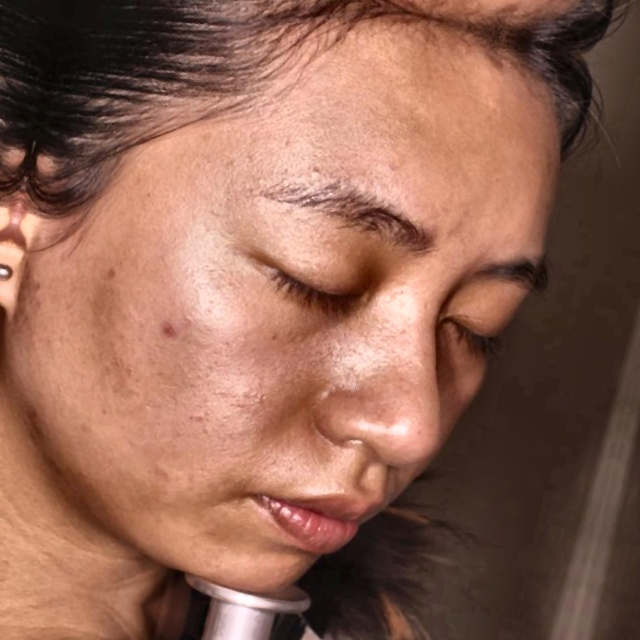comedone: (153, 317, 181, 345)
